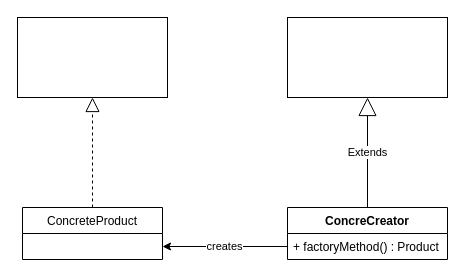
Some shapes in this 465 by 280 pixel diagram are drawn without their labels. The centre of each missing label's shape, as x and y in pixels:
"<<Interface>> Creator + factoryMethod(): Product + anOperation()" goes at (x=367, y=57).
"<<Interface>> Product" goes at (x=92, y=57).
